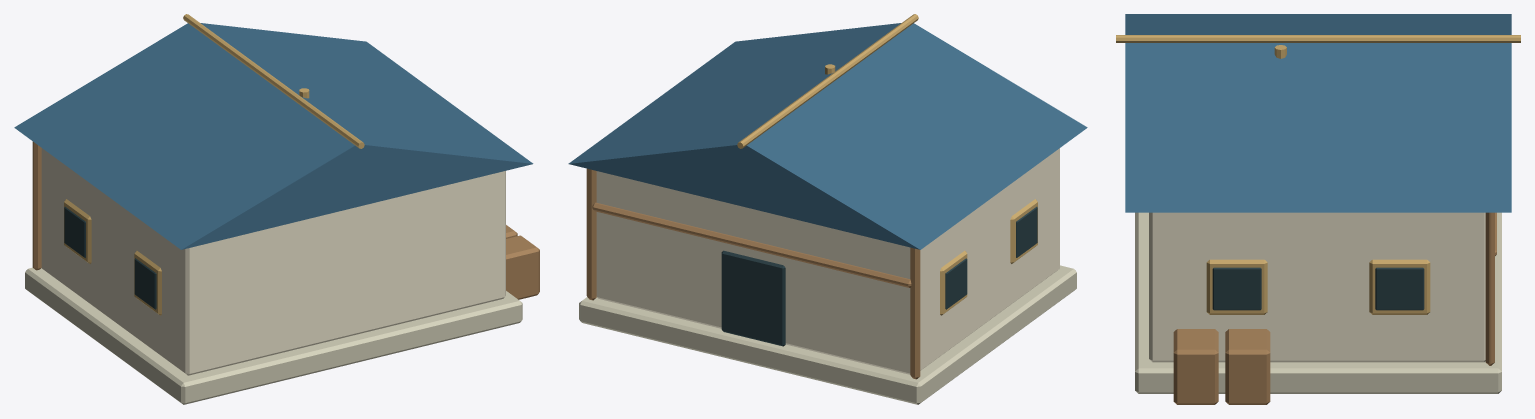
The model's file is level_05.glb.
The picture shows the model from 3 angles, left to right: view 1: azimuth 30°, elevation 25°; view 2: azimuth 150°, elevation 25°; view 3: azimuth 270°, elevation 25°; orthographic projection. The views are drawn at different scales.
Parts seen in each view (by area): view 1: warehouse — level 05; view 2: warehouse — level 05; view 3: warehouse — level 05.
Boxes of the visible parts, left/top/right/bottom form: warehouse — level 05: left=14, top=14, right=539, bottom=404; warehouse — level 05: left=568, top=14, right=1087, bottom=404; warehouse — level 05: left=1116, top=14, right=1520, bottom=404.
Bounding box in the file's own units: 5.4 × 3.1 × 4.3.
